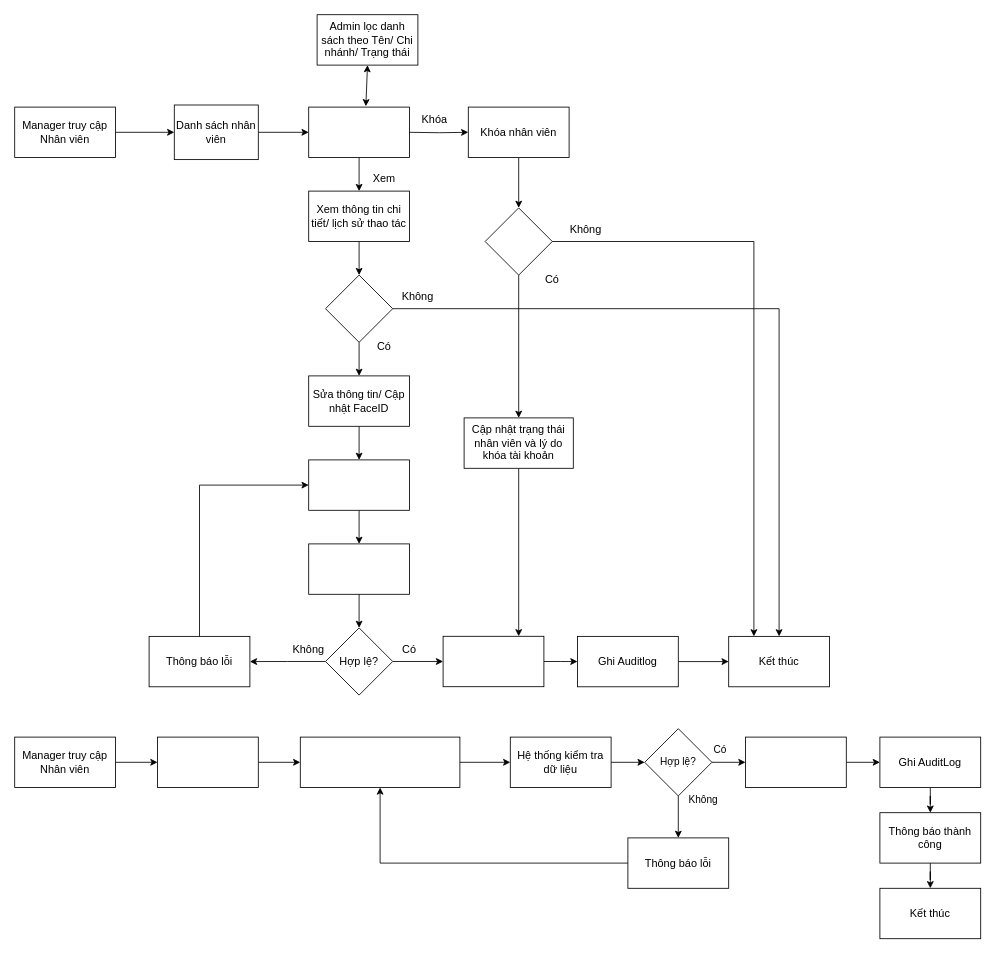
Some shapes in this 995 by 953 pixel diagram are drawn without their labels. The centre of each missing label's shape, as x and y in pixels:
Cập nhật không?: [359,308]
Hệ thống hiển thị danh sách nhân viên: [359,132]
Hệ thống kiểm tra: [359,568]
Lưu CSDL: [795,762]
Lưu hệ thống: [493,661]
Nhập thông tin: [359,484]
Tạo nhân viên: [207,762]
Upload Faceid, Nhập thông tin nhân viên và tài khoản đăng nhập nếu cần: [379,762]
Xác nhận khóa: [518,241]
